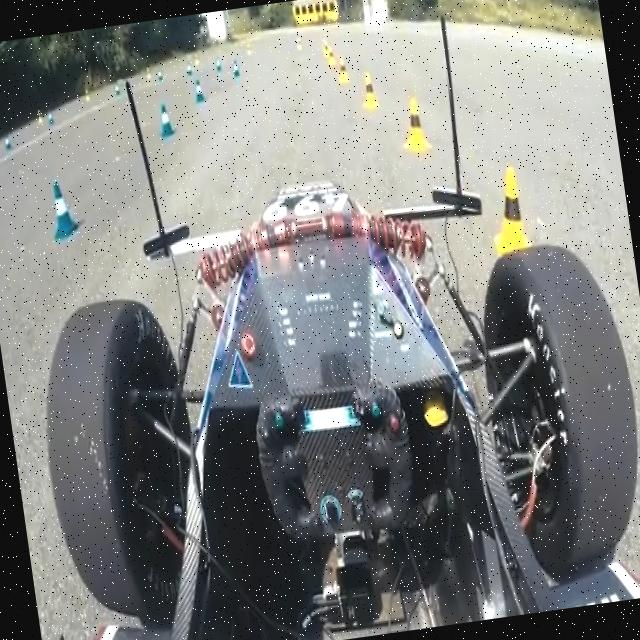blue_cone: (44, 177, 82, 244), (156, 100, 177, 139), (193, 77, 207, 105), (231, 56, 243, 81)
yellow_cone: (483, 162, 535, 262), (399, 93, 432, 156), (360, 71, 380, 110), (336, 54, 351, 84)
